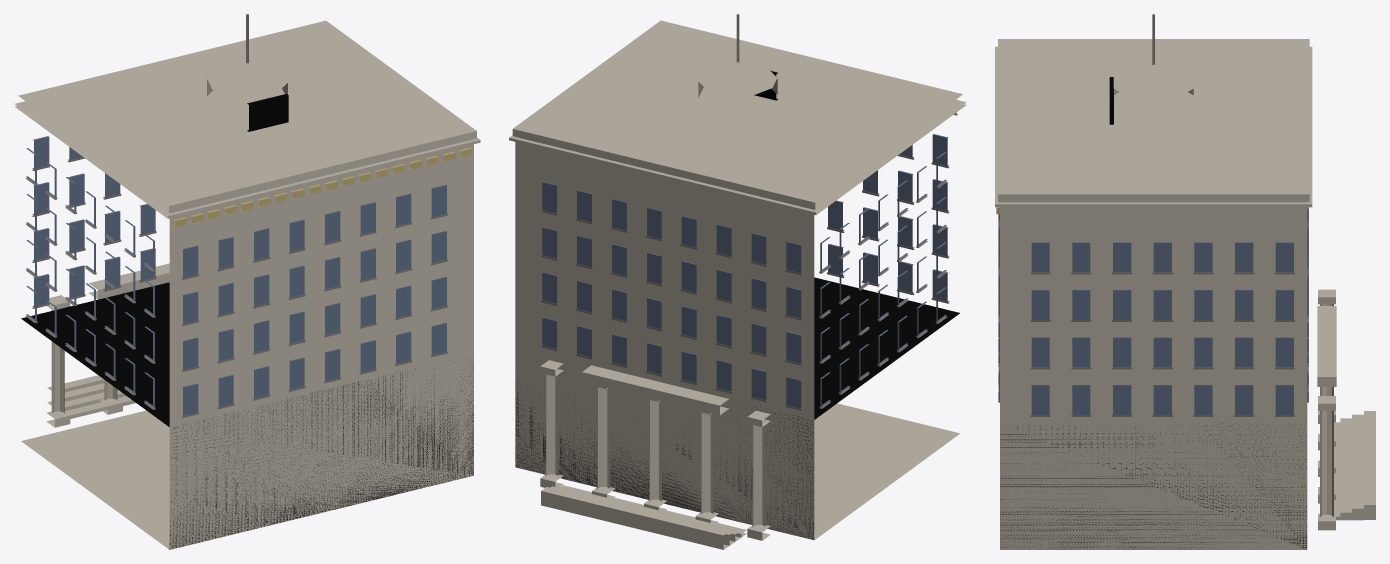
Rendered from bank_capital.glb.
3 views of the same model, side by side, from view 1: azimuth 30°, elevation 25°; view 2: azimuth 150°, elevation 25°; view 3: azimuth 270°, elevation 25° (orthographic). The views are drawn at different scales.
Visible parts, largest first — view 1: bank_capital; view 2: bank_capital; view 3: bank_capital.
Part boxes in pixels (x1,y1,x2,y2): bank_capital: (14, 14, 480, 549); bank_capital: (509, 14, 966, 549); bank_capital: (995, 14, 1375, 549).
Bounding box in the file's own units: 26.7 × 36.2 × 27.25.
